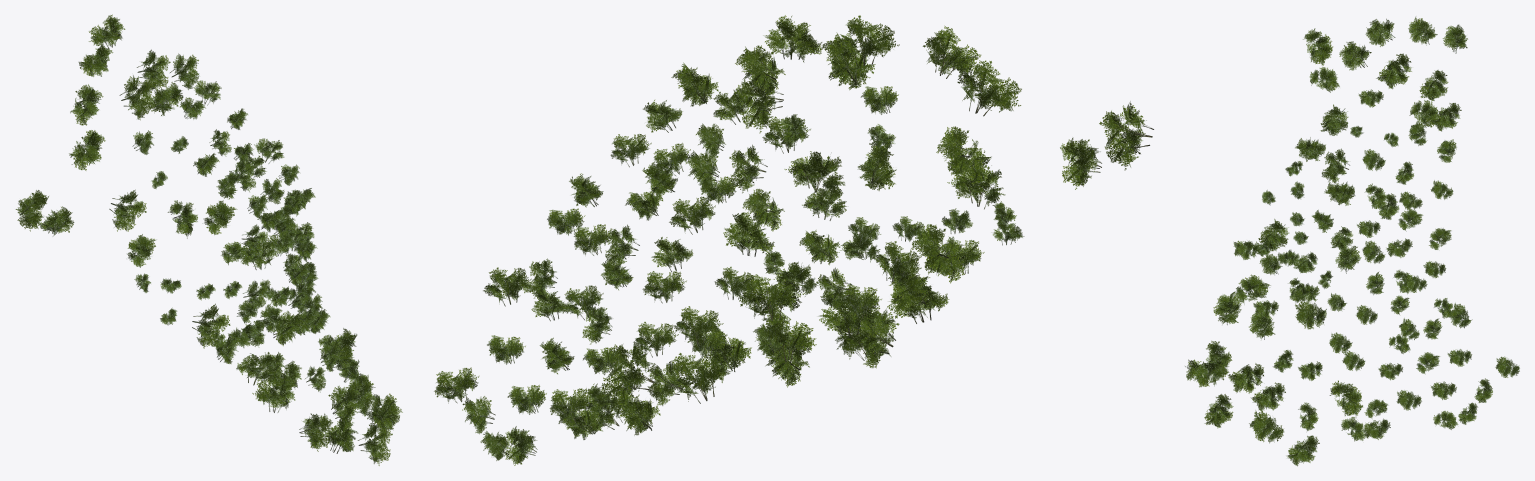
The model's file is bush_brown_leaf_a.glb.
3 renders of one model, left to right at view 1: azimuth 30°, elevation 25°; view 2: azimuth 150°, elevation 25°; view 3: azimuth 270°, elevation 25°, orthographic. The views are drawn at different scales.
Parts seen in each view (by area): view 1: bush.png__; view 2: bush.png__; view 3: bush.png__.
Boxes of the visible parts, x1,y1,x2,y2 form: bush.png__: (15, 14, 402, 465); bush.png__: (434, 15, 1153, 465); bush.png__: (1185, 17, 1519, 466).
Size of the model in its own units: 31.63 by 31.14 by 26.46.
1 material, 1 textured.
